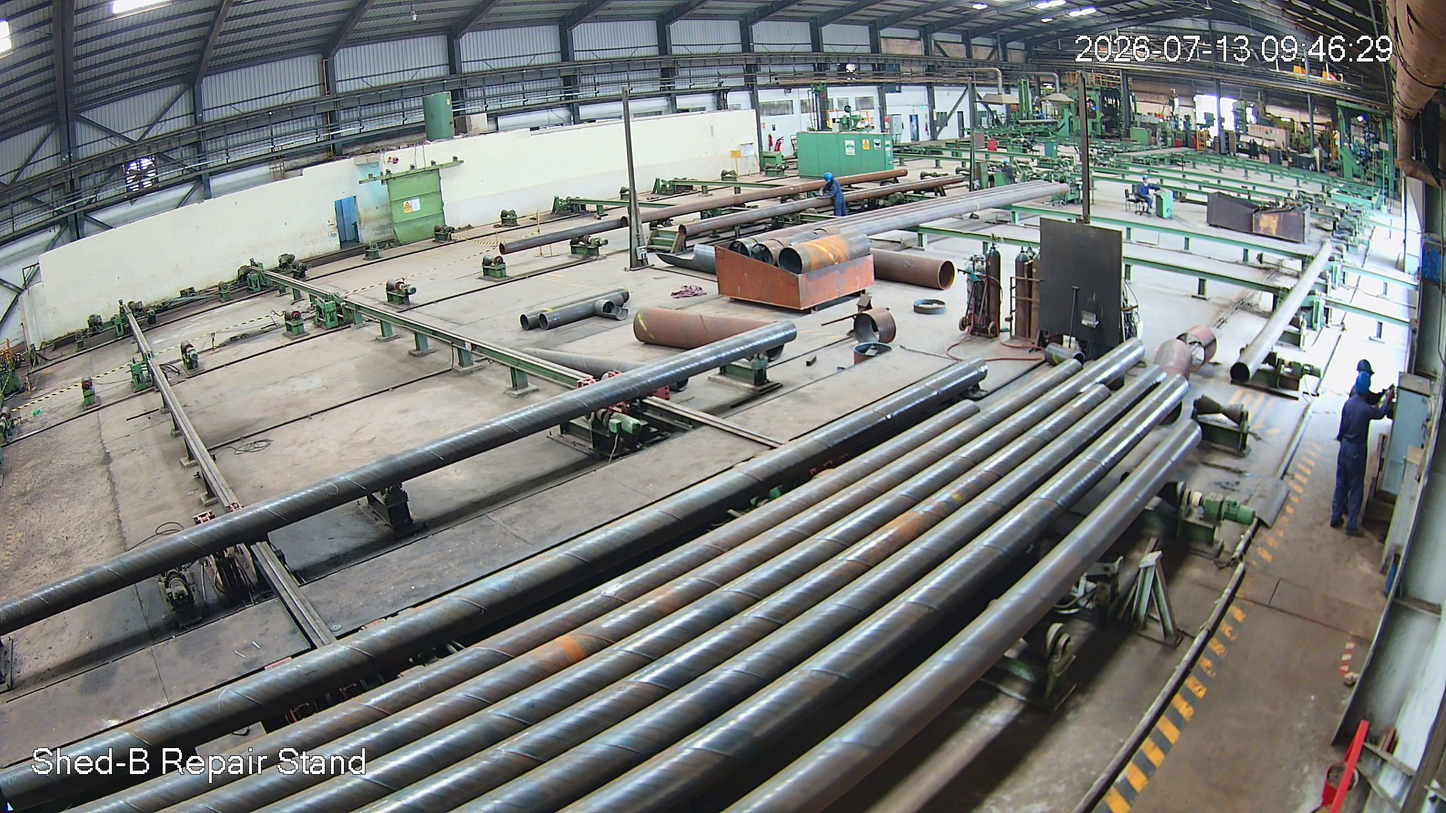Helmet: (1351, 369, 1376, 404), (821, 170, 838, 185)
Person: (1326, 373, 1380, 538), (819, 171, 847, 217)
